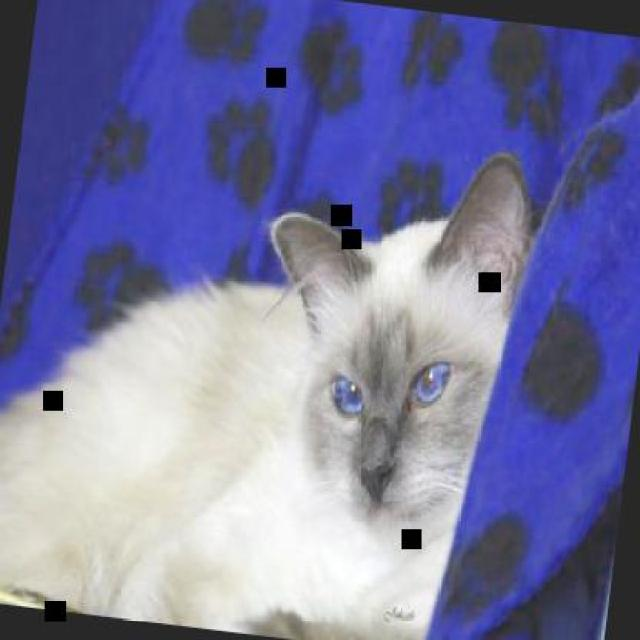cat: (0, 90, 543, 638)
